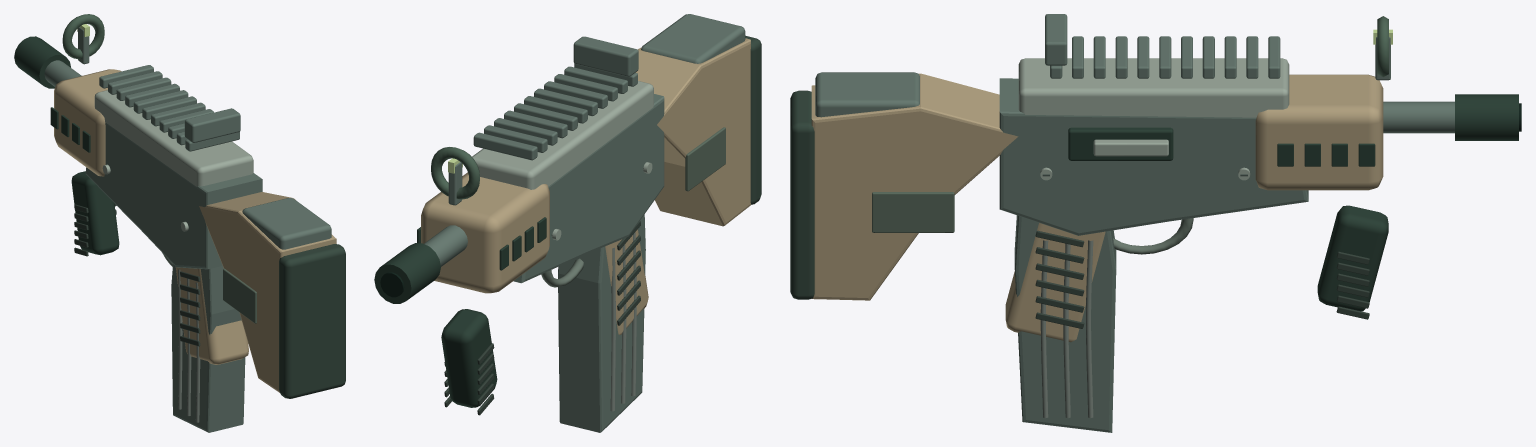
3 renders of one model, left to right at view 1: azimuth 30°, elevation 25°; view 2: azimuth 150°, elevation 25°; view 3: azimuth 270°, elevation 25°, orthographic. The views are drawn at different scales.
Parts seen in each view (by area): view 1: mp7, magazine; view 2: mp7, magazine; view 3: mp7, magazine, bolt.
Part boxes in pixels (x1,y1,x2,y2): mp7: (14,14,345,398); magazine: (171,264,245,432); mp7: (374,14,761,415); magazine: (558,214,645,432); mp7: (790,14,1521,342); magazine: (1014,215,1116,432); bolt: (1068,127,1173,160).
Bounding box in the file's own units: 0.1485 × 0.5924 × 0.9725.
